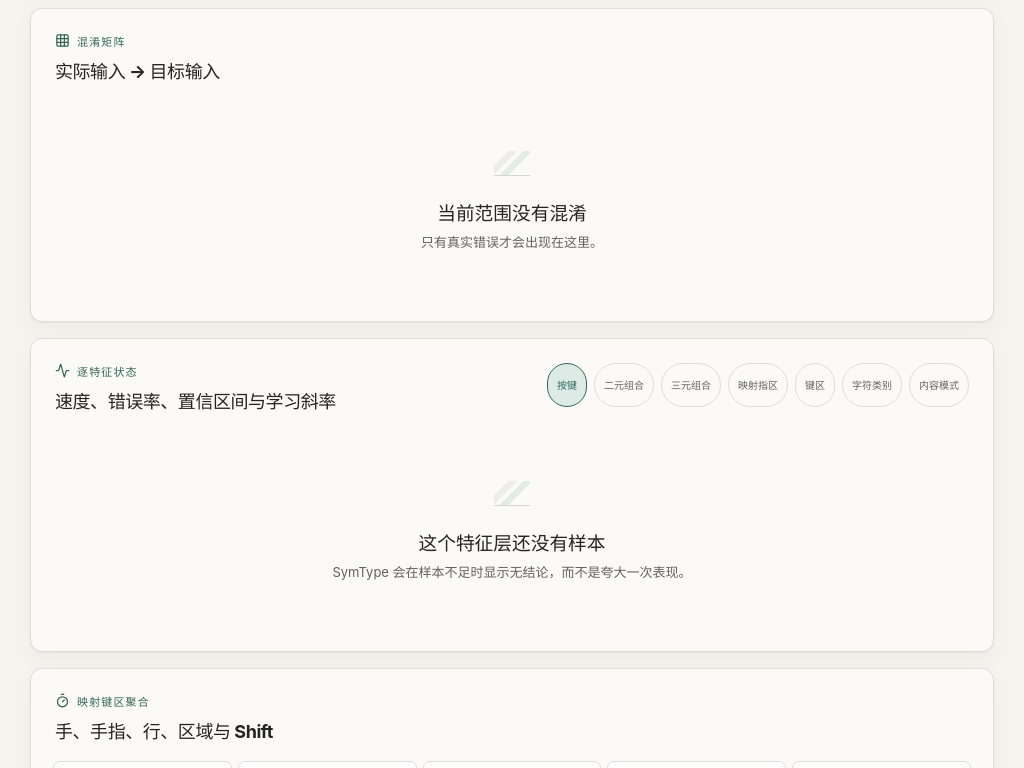
Test: AnalyticsPage capability dimensions › exposes authoritative content-mode performance as an actionable feature dimension
The image size is (1024, 768).
(page scrolled)
What coordinates should you click on to do the following:
click the button "内容模式"
I would click on:
 (939, 385)
Its box is [909,363,969,407].
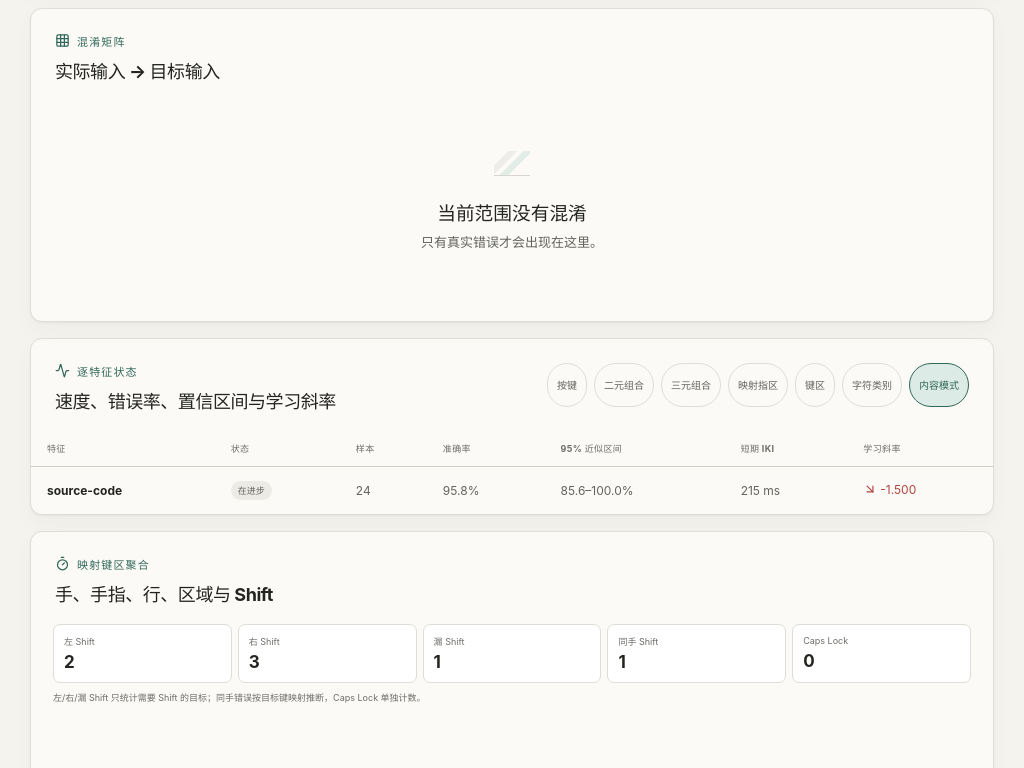
Result: the table named "内容模式特征" is shown at [31,431,993,514]
Result: the text "source-code" is shown at [47,483,122,498]
